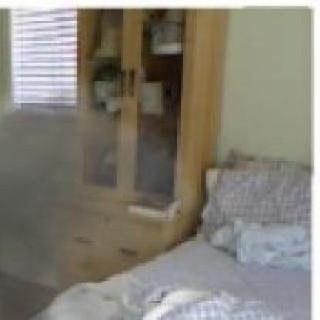smoke: (0, 103, 215, 320)
